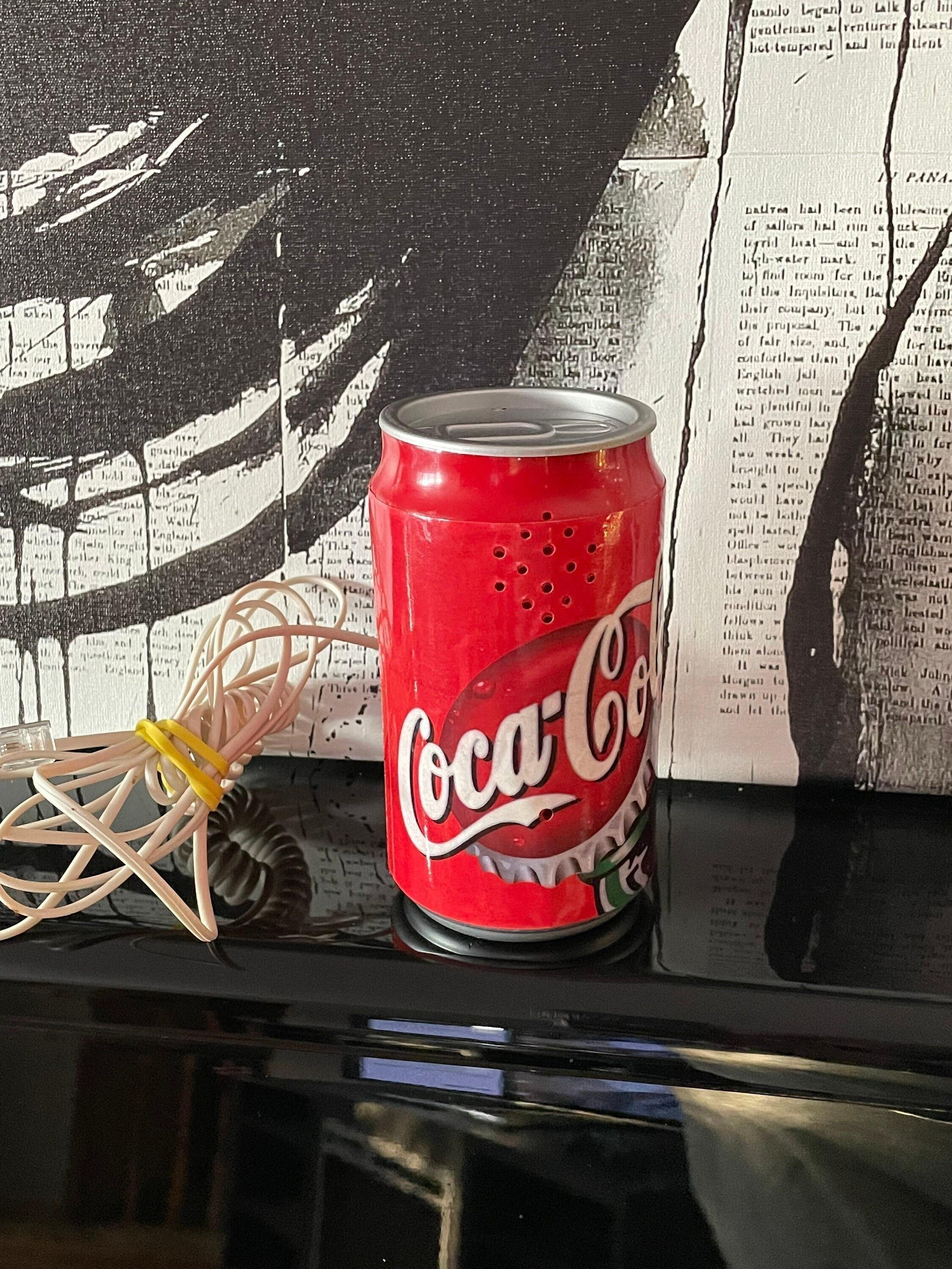tin can: (365, 382, 670, 951)
